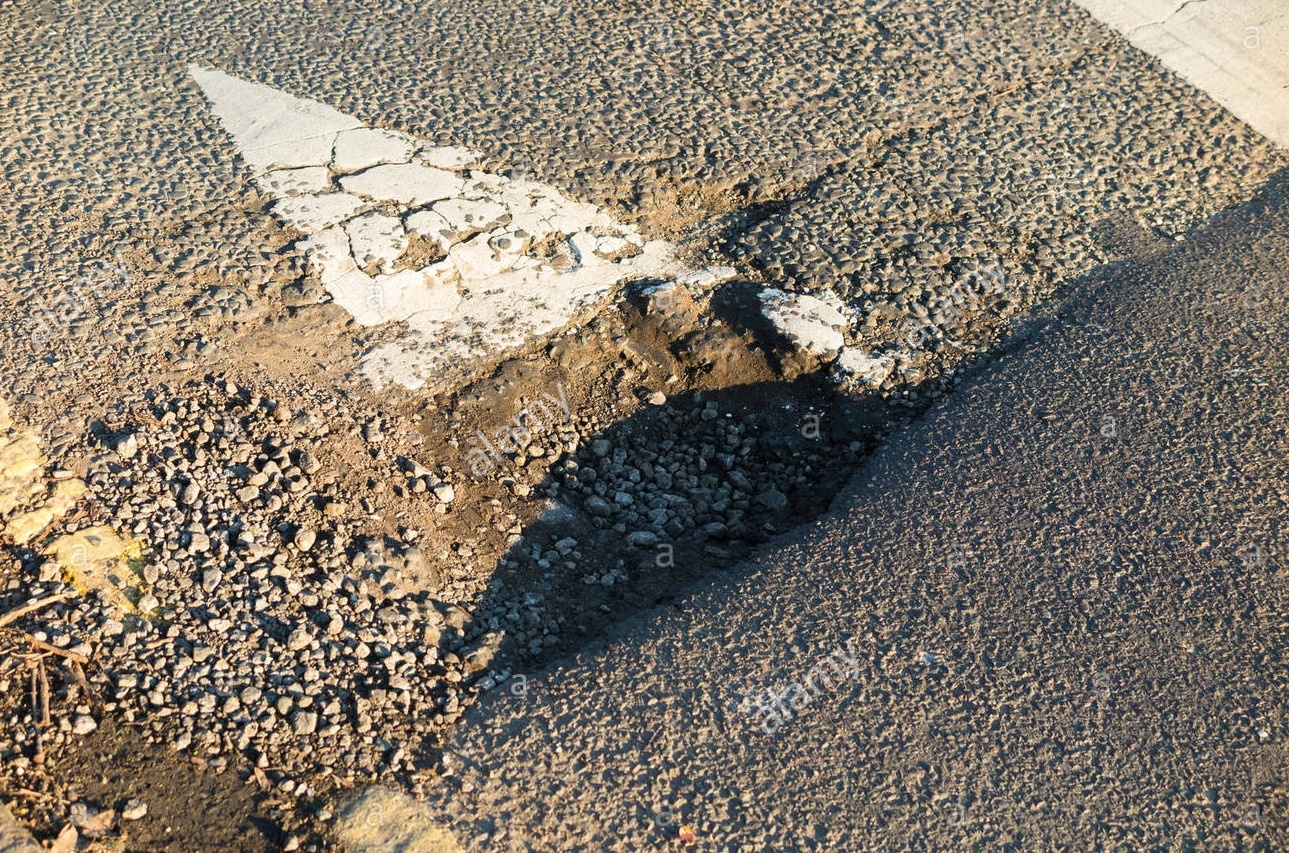pothole: (322, 220, 996, 643)
